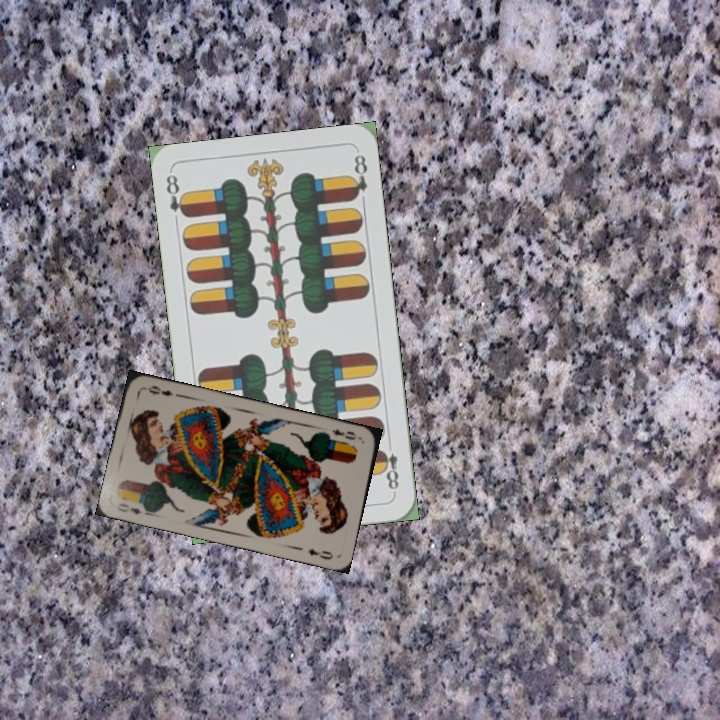E8: (162, 170, 190, 220), (376, 445, 401, 496)
EO: (113, 499, 153, 518), (328, 424, 364, 442)
